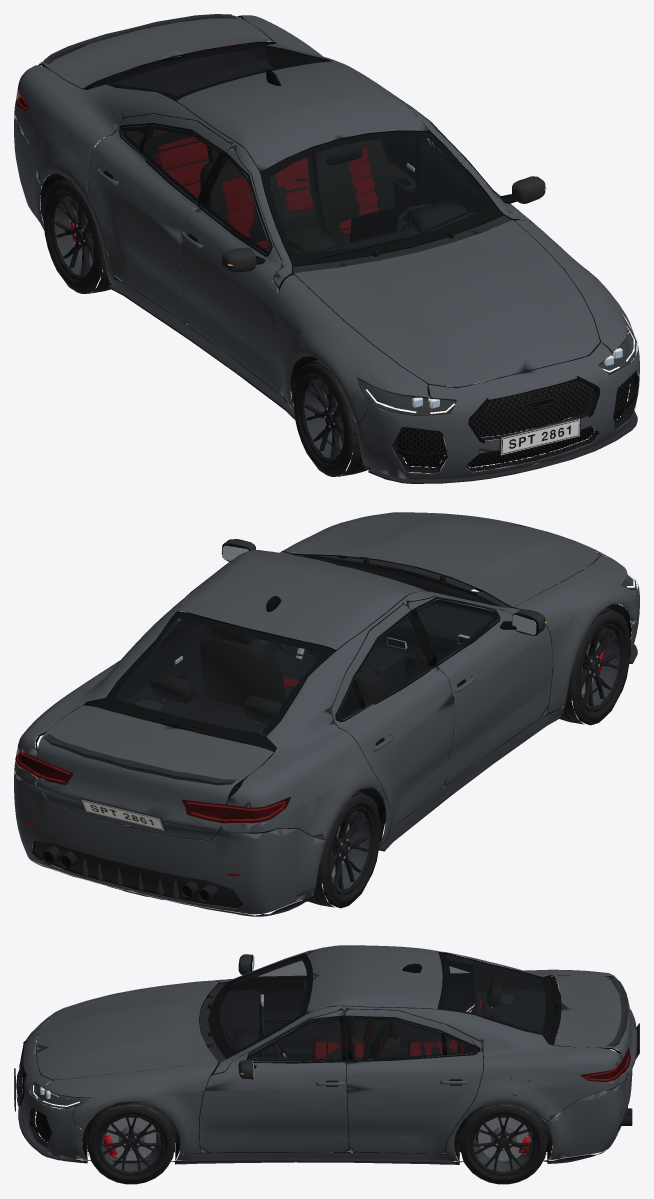
File: sport-sedan.glb
3 views of the same model, one above another, from view 1: azimuth 30°, elevation 25°; view 2: azimuth 150°, elevation 25°; view 3: azimuth 270°, elevation 25° (orthographic). The views are drawn at different scales.
Parts seen in each view (by area): view 1: Body, Wheel_FR, Wheel_RR; view 2: Body, Wheel_FR, Wheel_RR; view 3: Body, Wheel_RL, Wheel_FL.
Part boxes in pixels (bbox=[...]): Body: bbox=[14, 14, 639, 483]; Wheel_FR: bbox=[293, 360, 371, 476]; Wheel_RR: bbox=[43, 177, 111, 293]; Body: bbox=[14, 512, 639, 916]; Wheel_FR: bbox=[559, 607, 630, 725]; Wheel_RR: bbox=[303, 791, 380, 908]; Body: bbox=[14, 945, 639, 1164]; Wheel_RL: bbox=[458, 1102, 548, 1184]; Wheel_FL: bbox=[86, 1101, 175, 1184].
Size of the model in its own units: 2.1 by 1.45 by 4.81.
59 materials, 12 textured.
